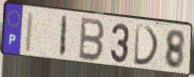3: (108, 22, 130, 66)
8: (164, 28, 187, 72)
B: (77, 16, 106, 64)
D: (132, 23, 161, 67)
I: (57, 15, 69, 59), (24, 12, 35, 55)
